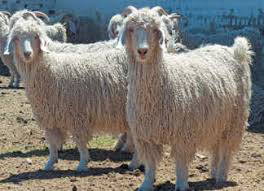koyun: (108, 13, 248, 191), (6, 18, 112, 169)
